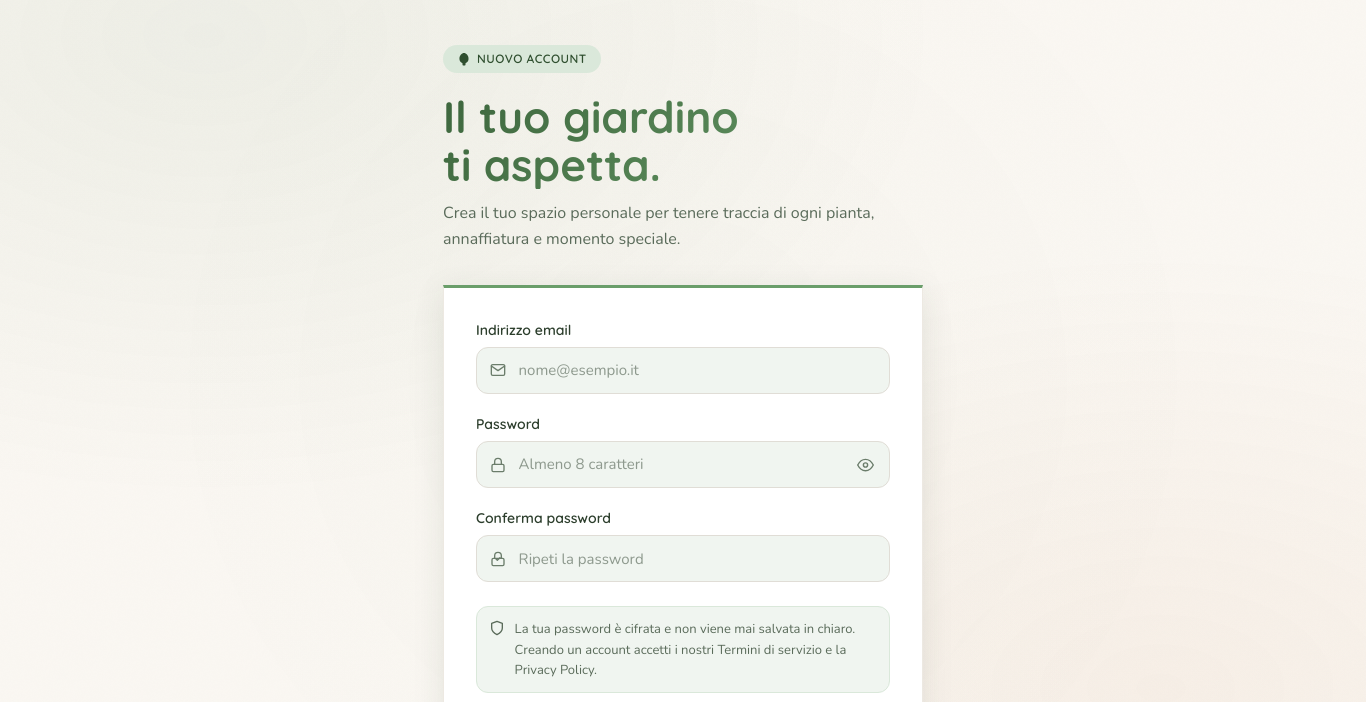
PaginaRegistrazione › submit con dati validi › chiama fetch con email e password corrette e mostra l'overlay di successo
In the field labelled "Indirizzo email": (683, 370) left=476, top=347, right=890, bottom=394, type "mario@esempio.it"
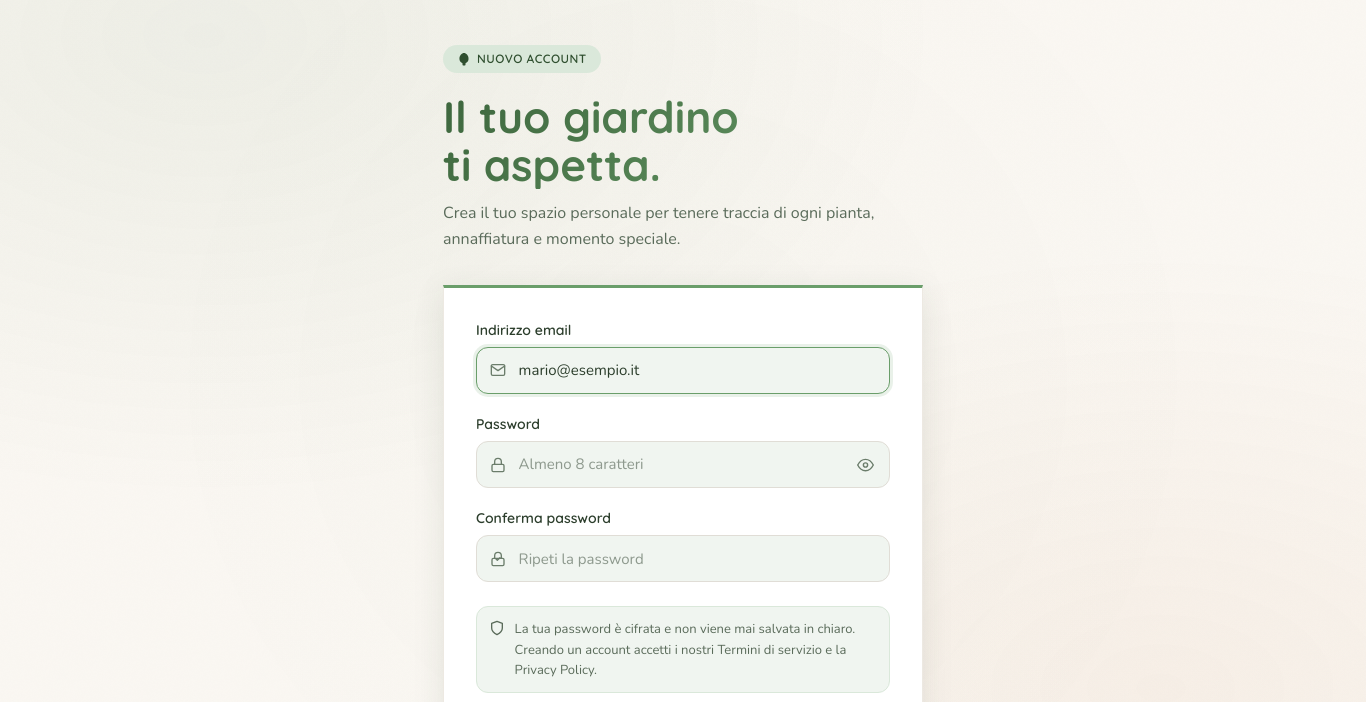
In the password field labelled "Password": (683, 465) left=476, top=441, right=890, bottom=488, type "Password123!"
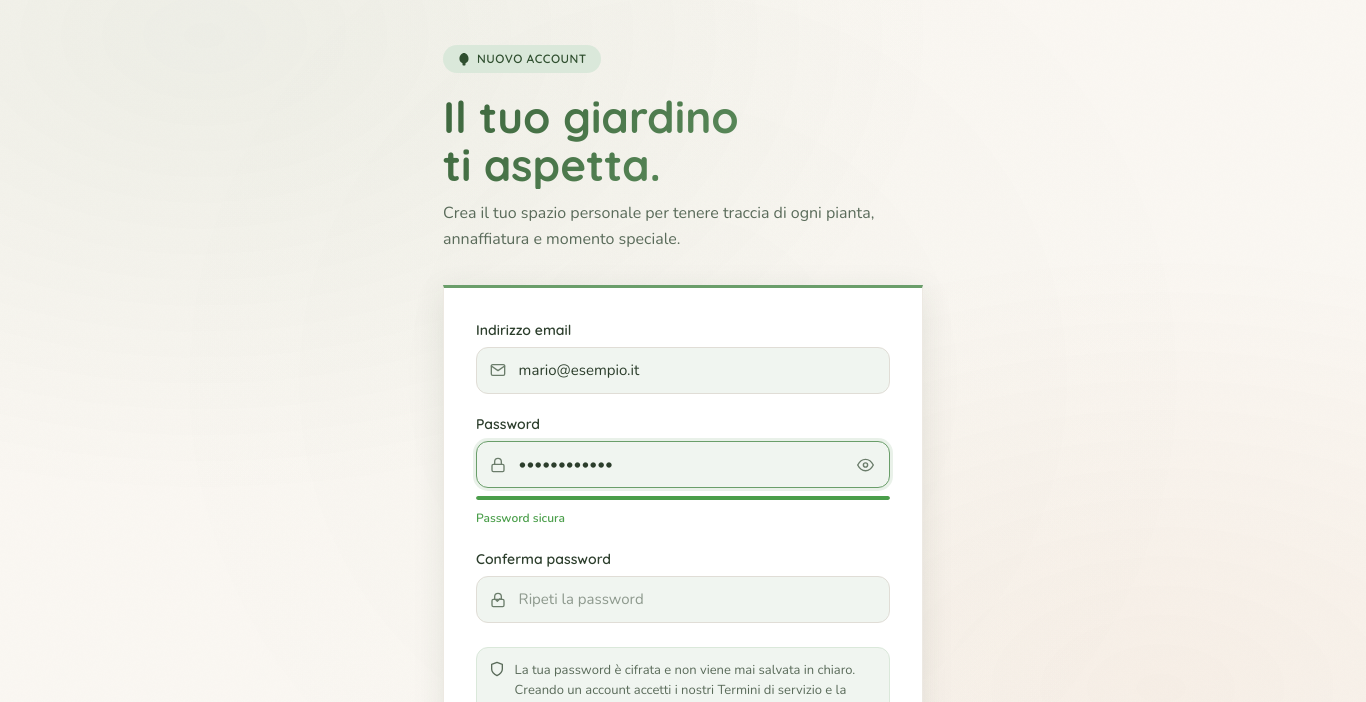
In the password field labelled "Conferma password": (683, 600) left=476, top=576, right=890, bottom=623, type "Password123!"
(page scrolled)
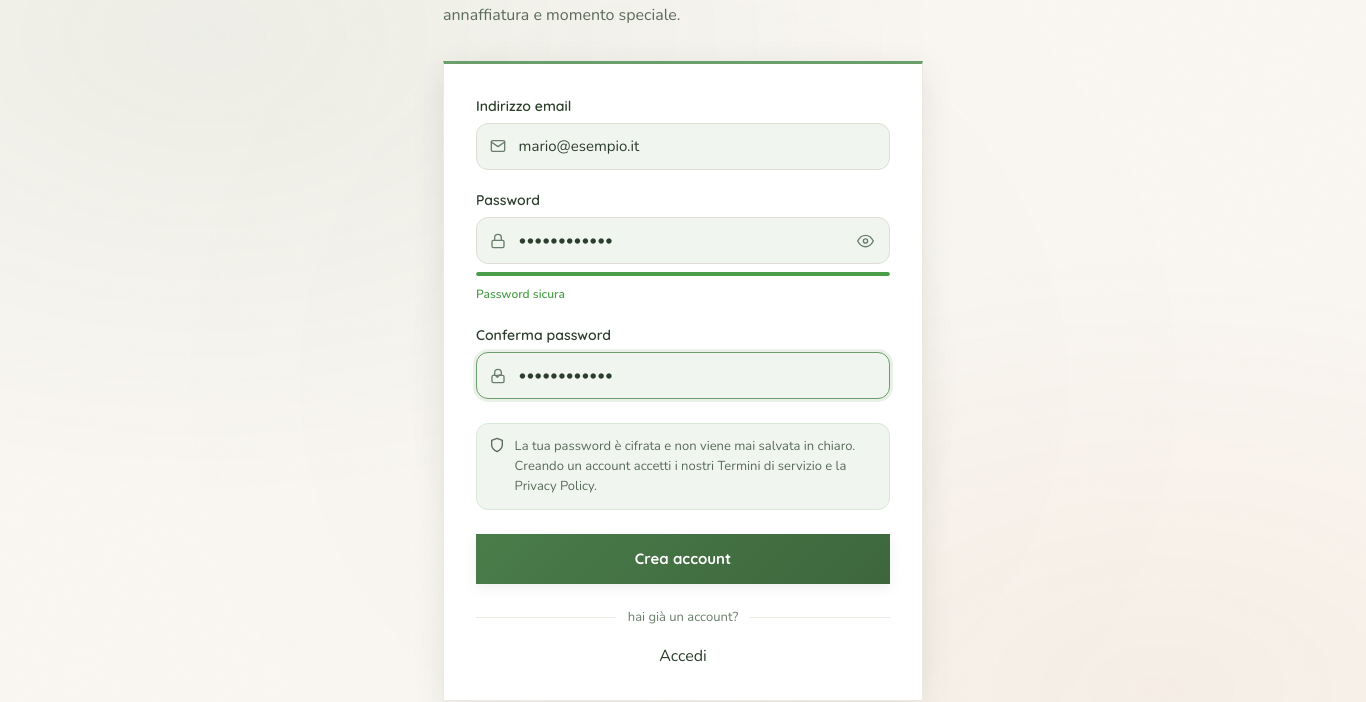
Click the button "Crea account": (683, 559) left=476, top=534, right=890, bottom=584
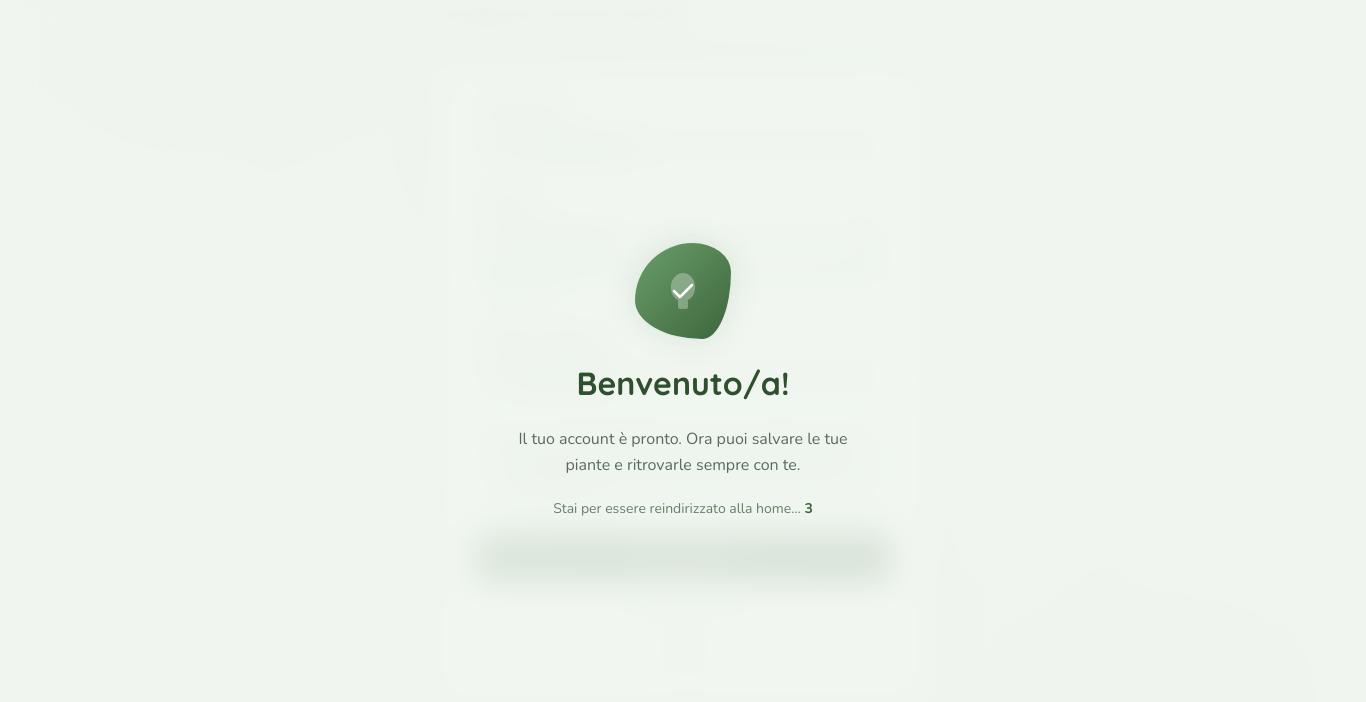
Now the heading "Benvenuto/a!" is shown, box left=576, top=359, right=790, bottom=407
Now the text "Il tuo account è pronto" is shown, box left=518, top=428, right=848, bottom=476
